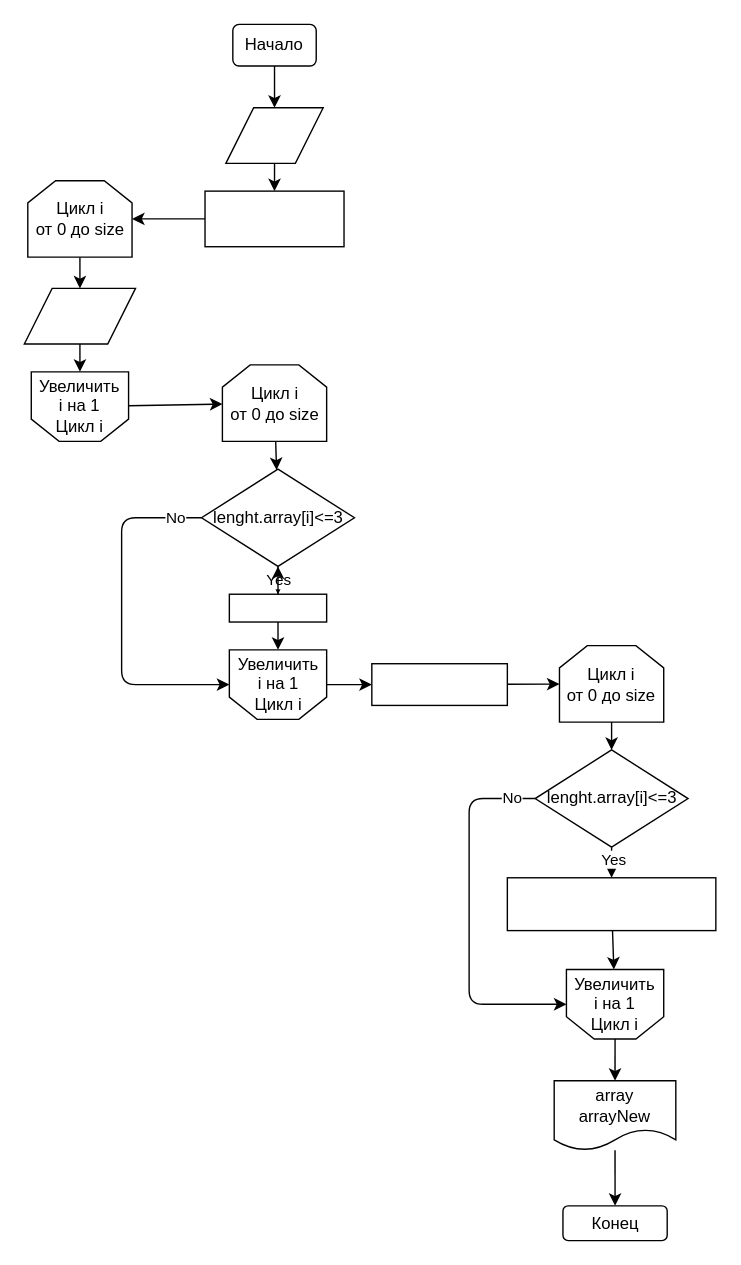
Some shapes in this 741 by 1265 pixel diagram are drawn without their labels. Each missing label, with the centre of its shape:
"array[i]" goes at point (79, 315).
"array[size} count =0" goes at point (274, 218).
"ArrayNew[count] count=0" goes at point (438, 683).
"arrayNew[count]=arraye[i] count++" goes at point (611, 903).
"count++" goes at point (277, 607).
"size" goes at point (273, 134).
